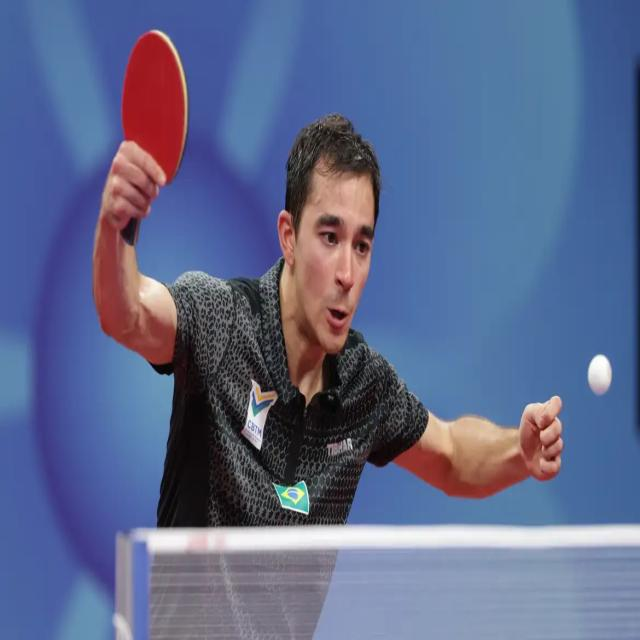TT Net: (110, 525, 639, 639)
TT Racket: (98, 9, 199, 203)
